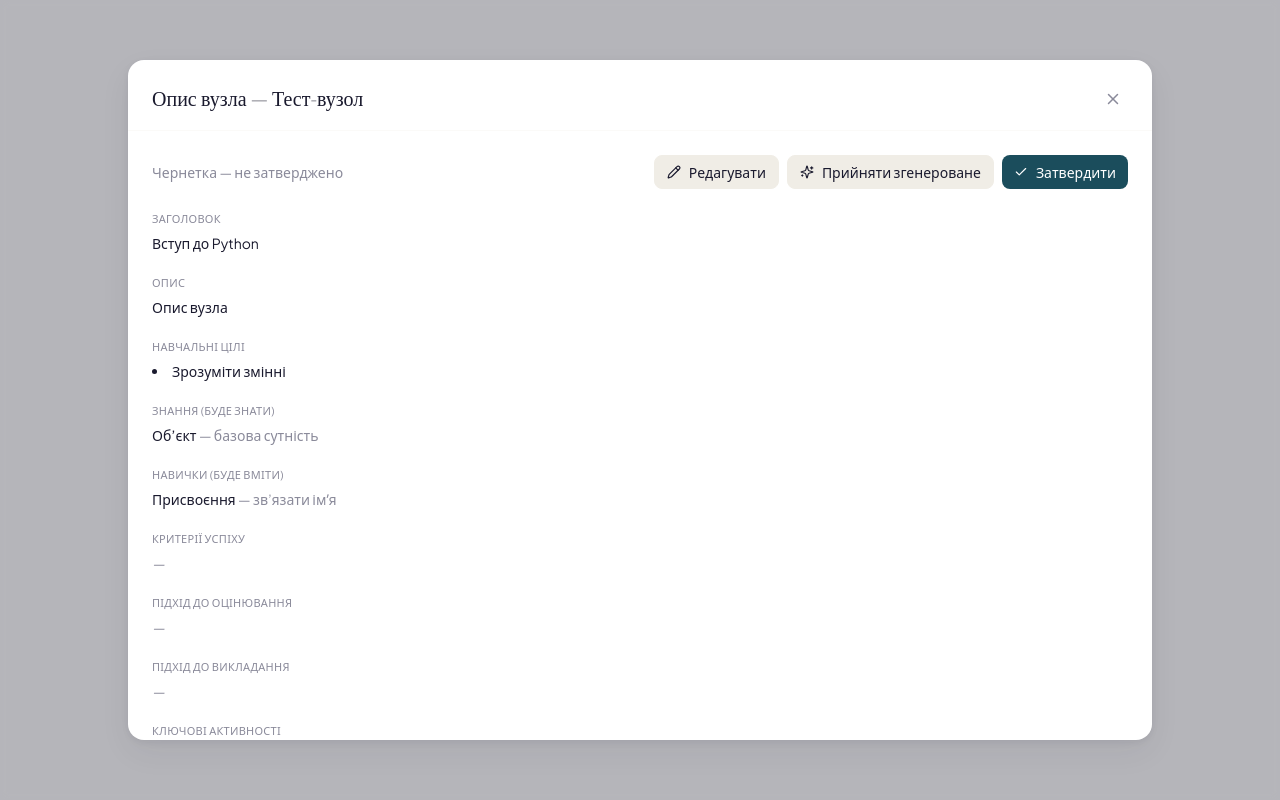
SummaryModal — overview mode (Task 3.2.5b c3) › Save sends a PATCH with ONLY the changed key (Ratified #5)
The image size is (1280, 800).
Click the button "Редагувати".
click(716, 172)  # box [654,155,779,189]
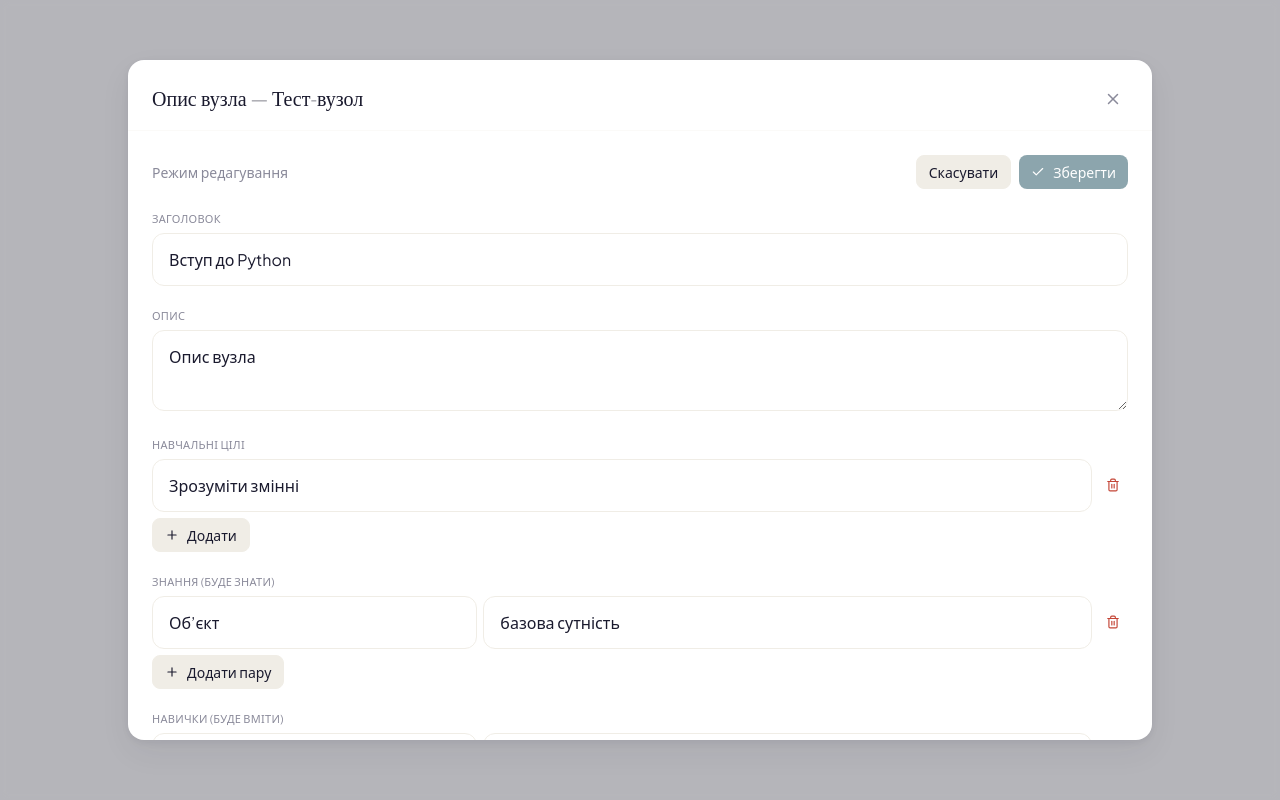
Replace the text in the field showing "Вступ до Python" below "Заголовок" with "Оновлений заголовок" at (640, 260), box [152,233,1128,286]
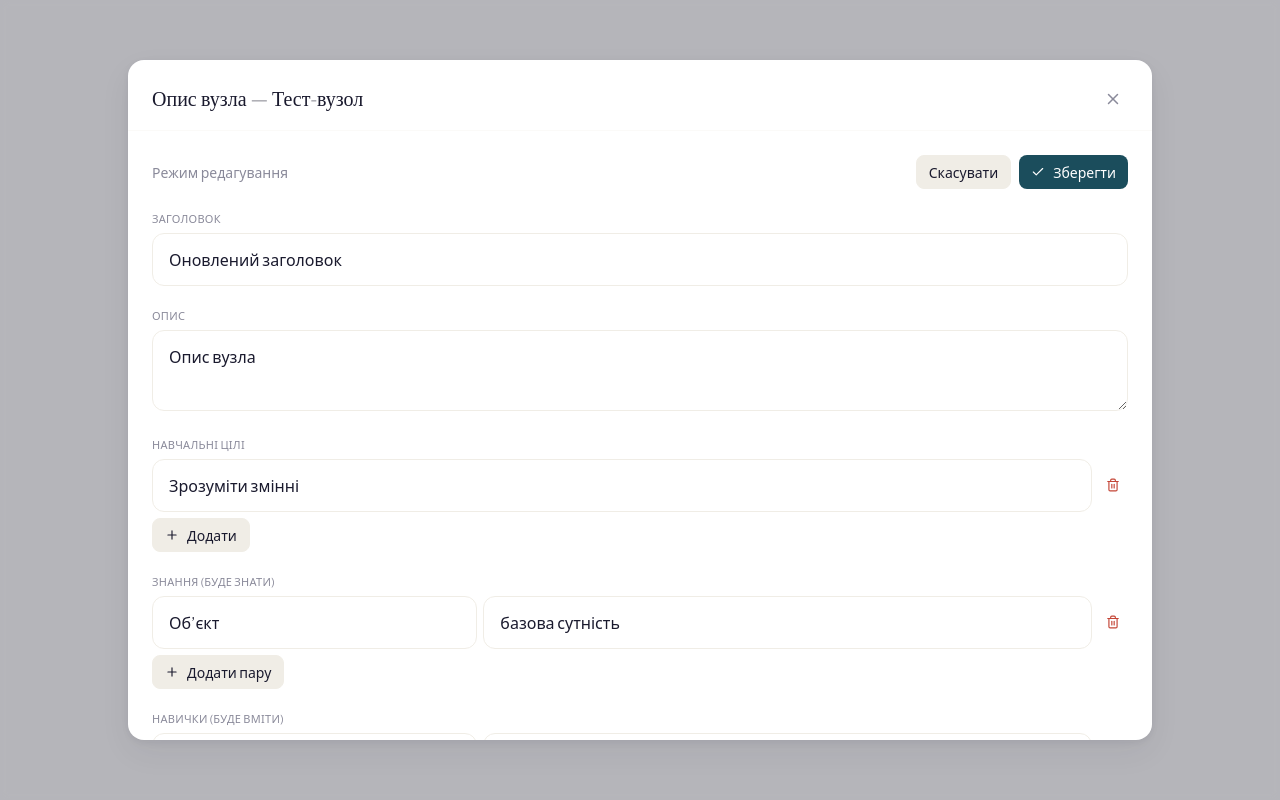
Click the button "Зберегти".
click(1074, 172)  # box [1019,155,1128,189]
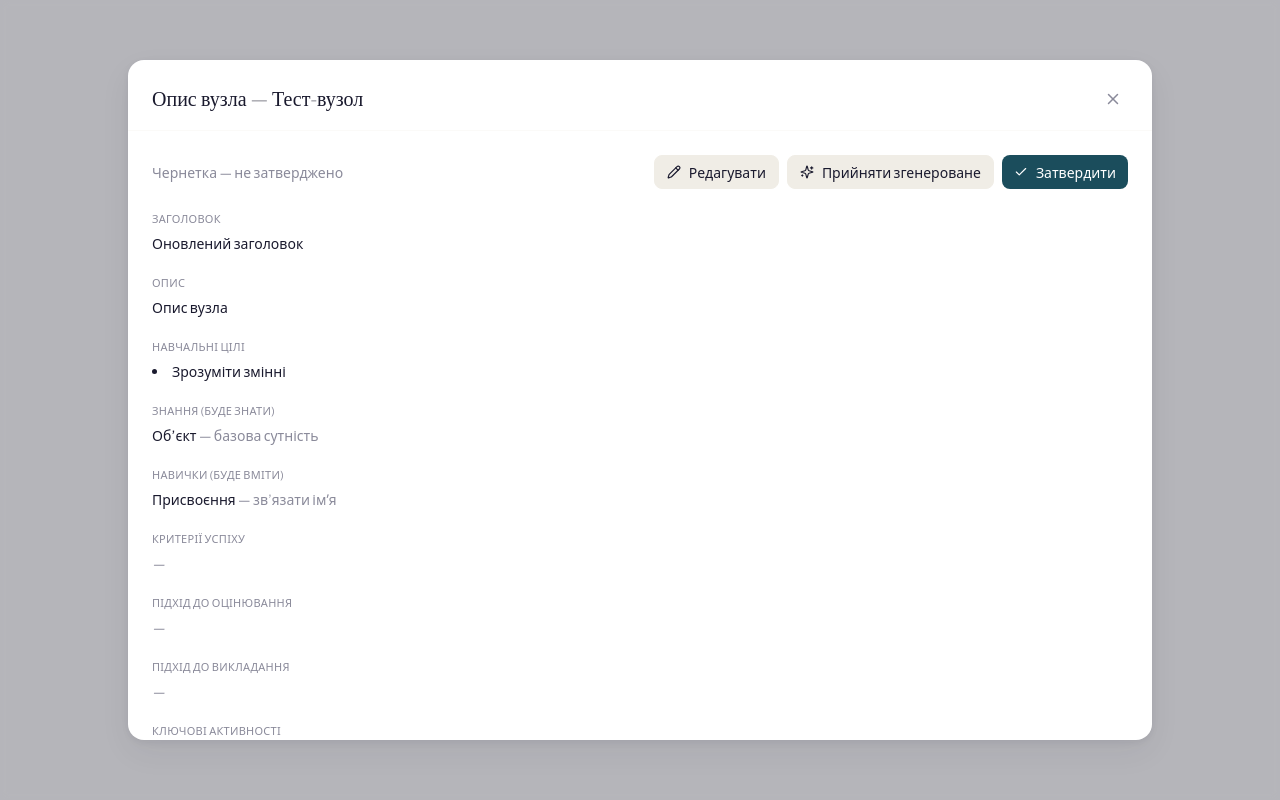
Check: the text "Оновлений заголовок" is shown, box [152,234,303,252]
